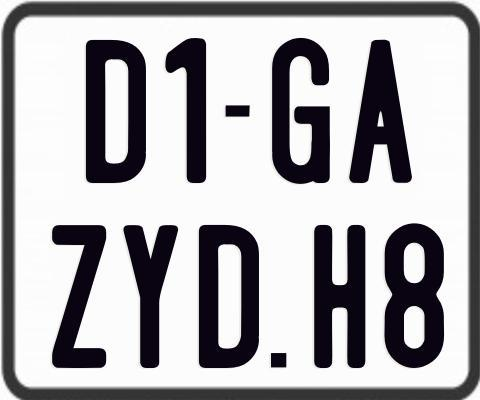1: (164, 37, 208, 187)
8: (383, 220, 449, 370)
A: (346, 37, 412, 186)
D: (197, 224, 263, 371), (86, 39, 146, 182)
G: (269, 35, 331, 184)
H: (313, 225, 370, 371)
Y: (123, 225, 183, 370)
Z: (51, 223, 111, 369)
